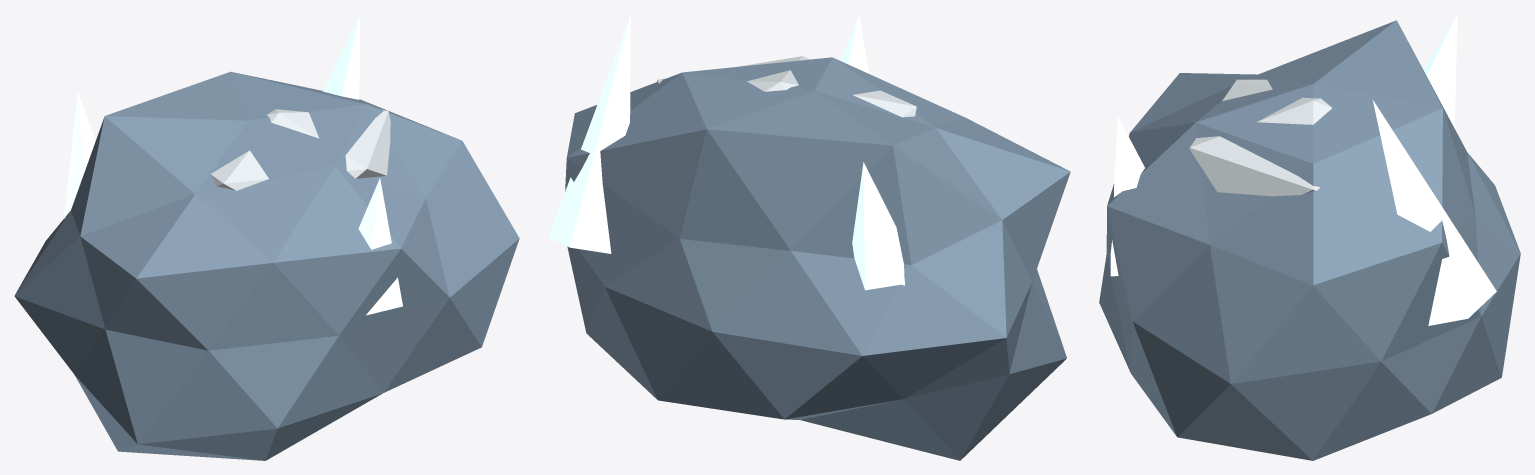
Rendered from frozen_rock.fbx.
3 views of the same model, side by side, from view 1: azimuth 30°, elevation 25°; view 2: azimuth 150°, elevation 25°; view 3: azimuth 270°, elevation 25° (orthographic). The views are drawn at different scales.
Visible parts, largest first — view 1: Frozen_rock; view 2: Frozen_rock; view 3: Frozen_rock.
Part boxes in pixels (x1,y1,x2,y2): Frozen_rock: (14, 14, 519, 460); Frozen_rock: (548, 14, 1070, 460); Frozen_rock: (1099, 14, 1520, 460).
Size of the model in its own units: 2.86 by 2.2 by 2.09.
